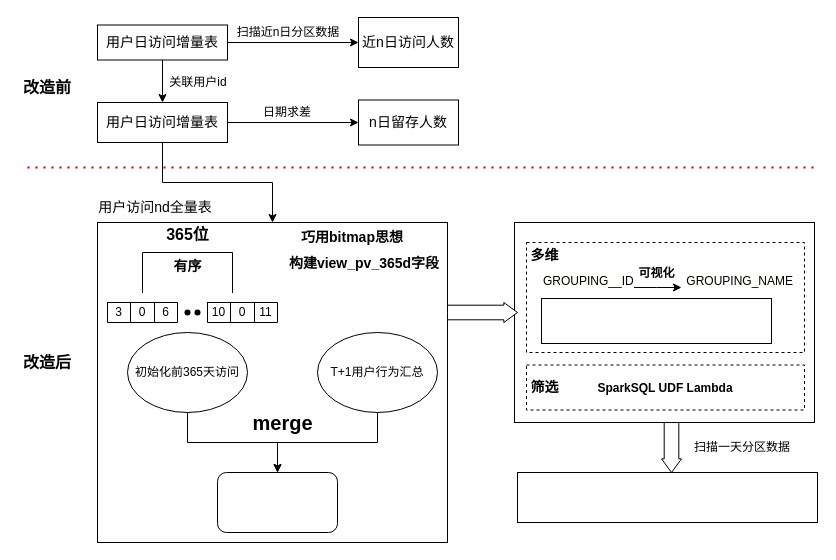
Some shapes in this 836 by 560 pixel diagram are drawn without their labels. The centre of each missing label's shape, as x and y in pixels:
GROUPING SETS: (x=656, y=321)
合并365天用户: (x=277, y=502)
近n日访问人数/n日留存人数: (x=667, y=497)
